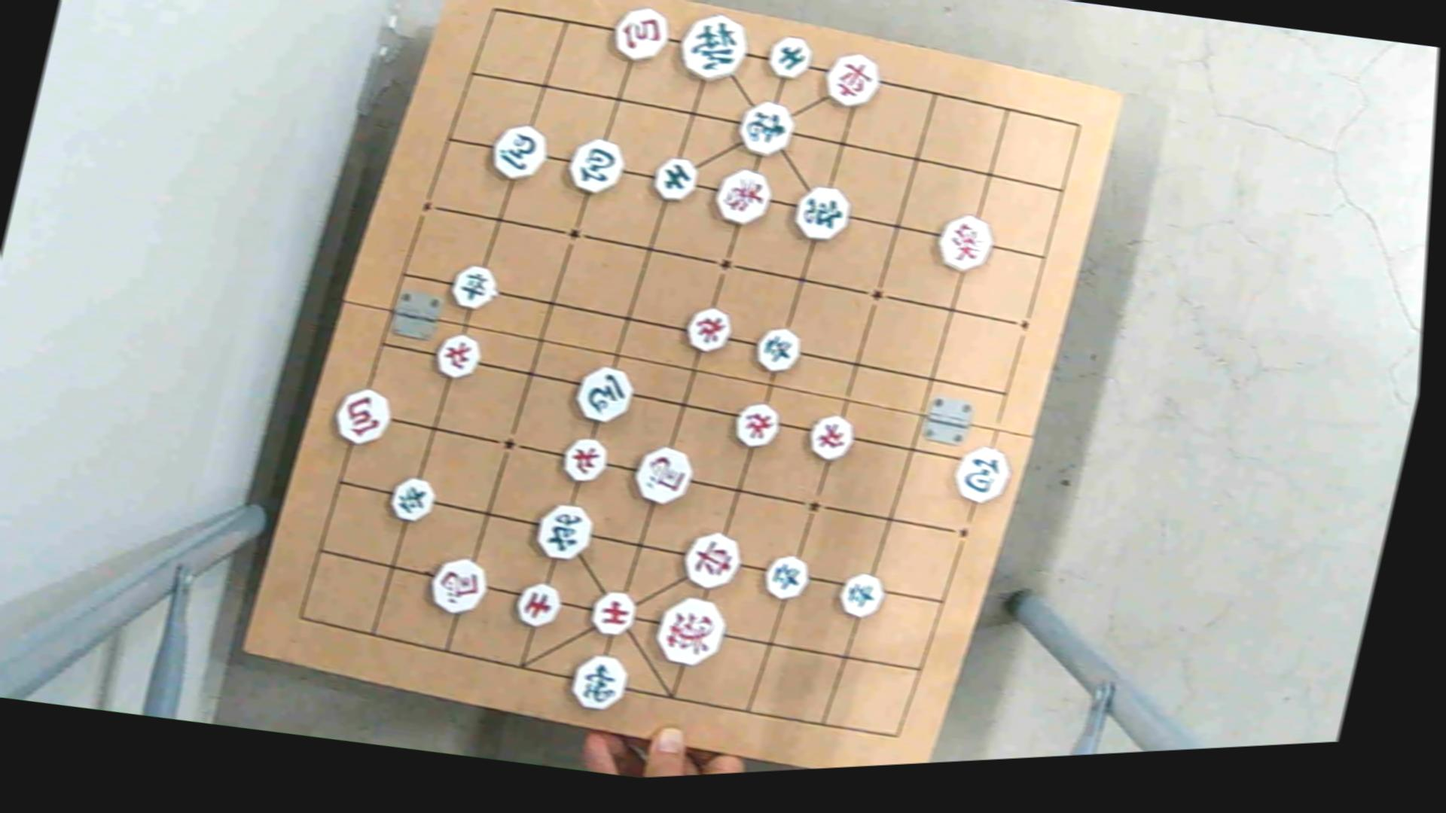cha_green: (529, 501, 600, 565), (791, 184, 854, 241)
cha_red: (818, 48, 886, 108), (682, 529, 746, 590)
jol_green: (831, 570, 889, 619), (757, 553, 814, 601), (444, 262, 501, 309), (384, 476, 439, 524), (753, 324, 805, 370)
jol_red: (429, 330, 485, 381), (802, 412, 858, 462), (680, 304, 736, 353), (728, 401, 784, 450), (557, 435, 612, 484)
ma_green: (571, 363, 640, 425), (484, 122, 552, 184)
ma_red: (628, 443, 700, 507), (423, 553, 491, 617)
po_green: (945, 445, 1015, 507), (563, 136, 631, 195)
po_red: (327, 386, 396, 448), (608, 3, 677, 62)
sa_green: (648, 154, 703, 202), (762, 34, 814, 80)
sa_red: (588, 587, 641, 638), (512, 580, 566, 629)
sang_green: (732, 97, 799, 157), (569, 653, 630, 710)
sang_red: (933, 211, 1001, 273), (710, 163, 776, 224)
wang_green: (674, 14, 757, 87)
wang_red: (648, 593, 731, 668)
